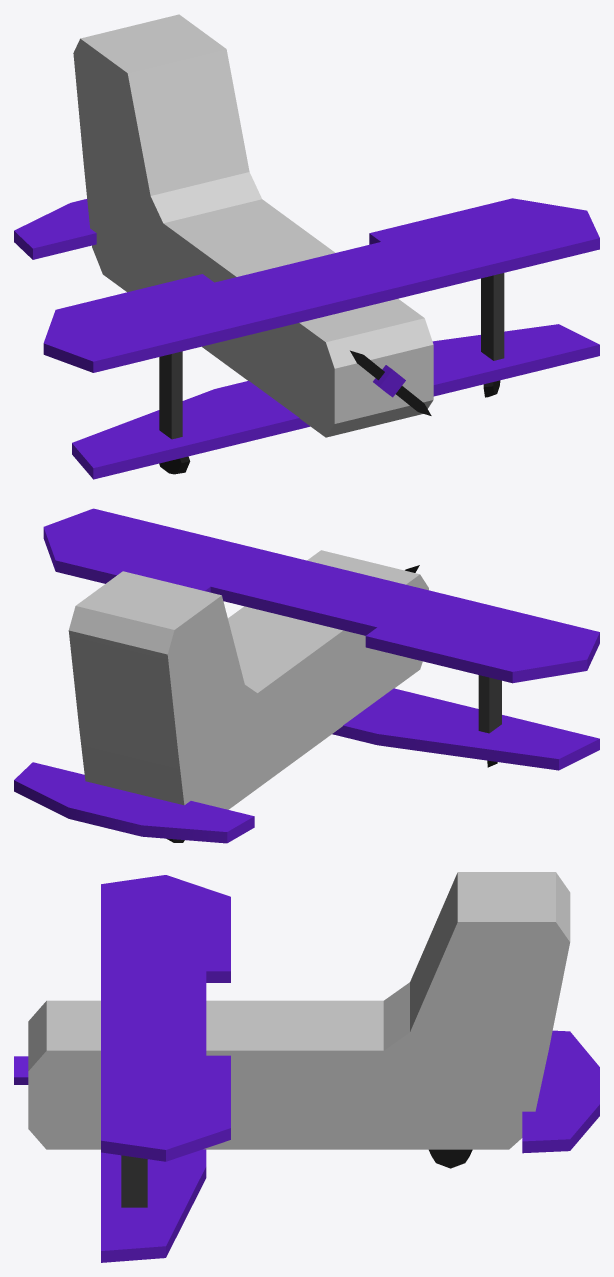
The model's file is Airplane_E.FBX.
3 renders of one model, top to bottom at view 1: azimuth 30°, elevation 25°; view 2: azimuth 150°, elevation 25°; view 3: azimuth 270°, elevation 25°, orthographic. The views are drawn at different scales.
Parts seen in each view (by area): view 1: Airplane; view 2: Airplane; view 3: Airplane.
Boxes of the visible parts, left/top/right/bottom form: Airplane: left=14, top=14, right=599, bottom=479; Airplane: left=14, top=508, right=599, bottom=843; Airplane: left=14, top=872, right=599, bottom=1262.
Bounding box in the file's own units: 150 × 68.74 × 135.
